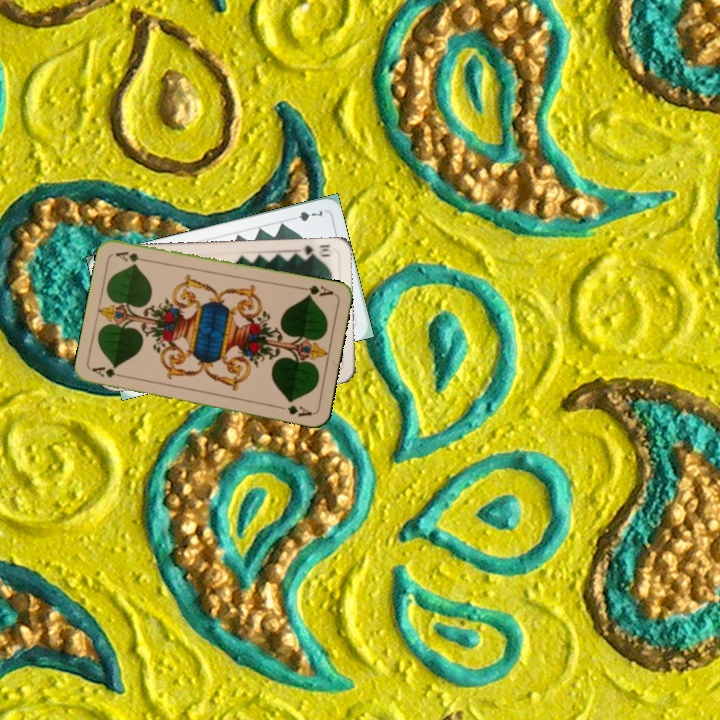G10: (295, 241, 336, 260)
G7: (286, 206, 325, 224)
GA: (296, 281, 336, 300), (88, 363, 129, 380)
